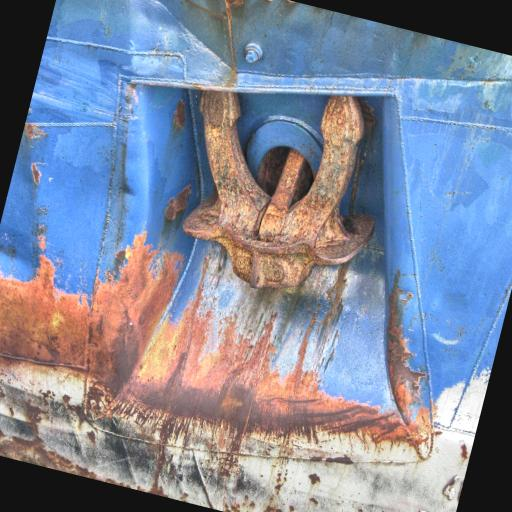corrosion: (84, 232, 446, 467), (181, 91, 378, 292), (60, 224, 192, 398), (369, 269, 437, 428), (0, 253, 93, 366), (0, 429, 102, 480), (159, 182, 200, 222), (149, 446, 166, 494), (171, 98, 191, 129), (22, 122, 48, 143), (29, 162, 44, 185), (308, 472, 321, 485)
